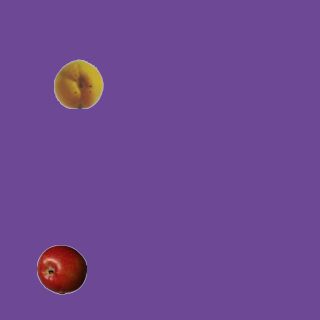Apple Braeburn: (36, 244, 86, 294)
Peach 2: (53, 58, 103, 108)
